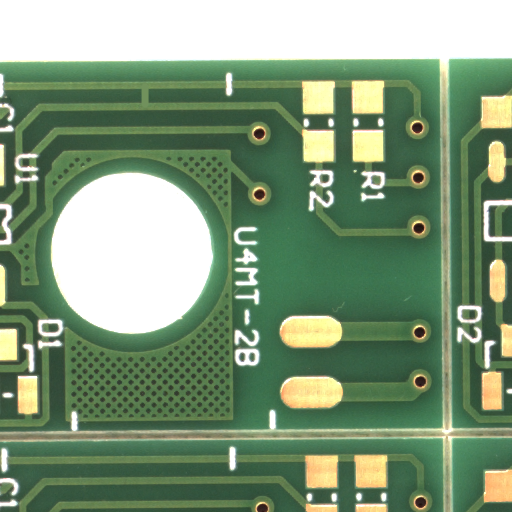Short: (145, 95, 159, 113)
